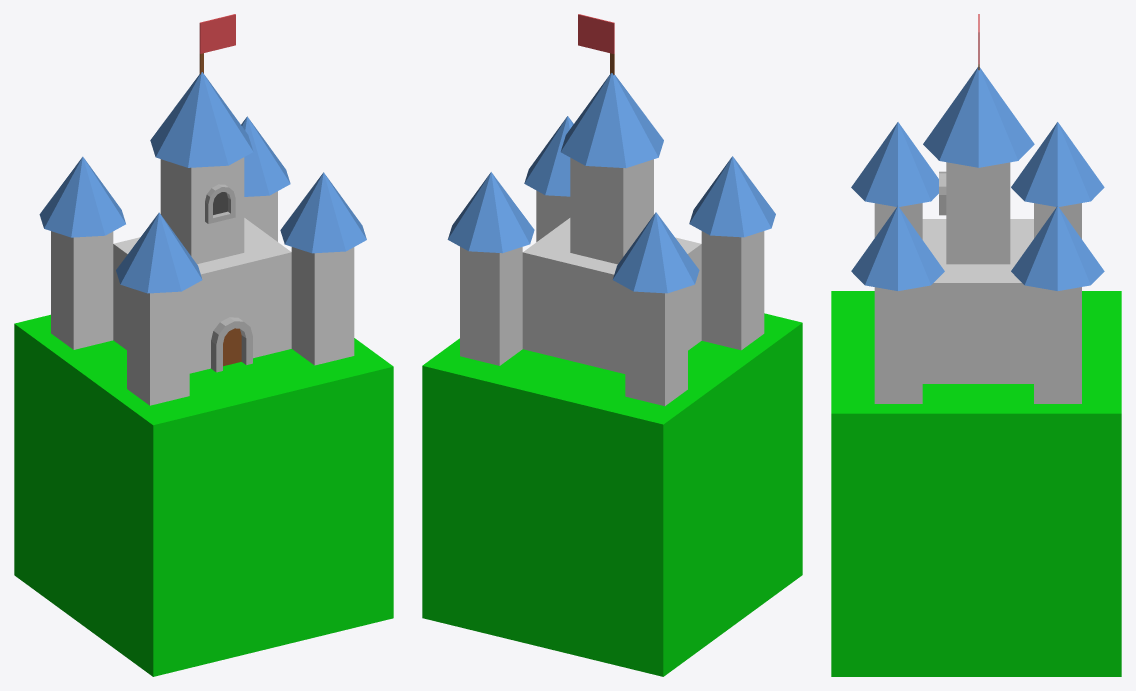
The model's file is castle.gltf.
The picture shows the model from 3 angles, left to right: view 1: azimuth 30°, elevation 25°; view 2: azimuth 150°, elevation 25°; view 3: azimuth 270°, elevation 25°; orthographic projection. The views are drawn at different scales.
Parts seen in each view (by area): view 1: Land.001, Cube, Cube.001, Cube.004, Cube.005, Cone.007, Cone.004, Cone.003, Cone.006, Cone.005, Plane.002, Plane.001 (+2 smaller); view 2: Land.001, Cube, Cube.005, Cube.004, Cube.002, Cone.007, Cone.006, Cone.003, Cone.005, Cone.004, Plane.001, Cube.001; view 3: Land.001, Cube, Cone.007, Cube.001, Cube.002, Cone.005, Cone.006, Cone.004, Cone.003, Cube.005, Cube.004.
Boxes of the visible parts, x1,y1,x2,y2 form: Land.001: (14,314,393,676); Cube: (113,157,291,373); Cube.001: (291,247,354,365); Cube.004: (51,231,113,349); Cube.005: (127,287,189,405); Cone.007: (150,72,253,167); Cone.004: (280,172,366,253); Cone.003: (116,212,202,293); Cone.006: (39,156,125,237); Cone.005: (241,116,290,196); Plane.002: (211,317,252,372); Plane.001: (199,14,235,74); Land.001: (422,313,802,676); Cube: (522,158,701,373); Cube.005: (701,231,764,350); Cube.004: (625,287,687,406); Cube.002: (460,246,522,365); Cone.007: (560,73,663,168); Cone.006: (612,212,699,293); Cone.003: (689,156,775,237); Cone.005: (447,172,534,253); Cone.004: (524,116,573,196); Plane.001: (578,14,614,75); Cube.001: (536,190,570,241); Land.001: (831,291,1121,676); Cube: (922,162,1033,383); Cone.007: (923,67,1034,167); Cube.001: (874,287,922,403); Cube.002: (1034,287,1081,403); Cone.005: (1011,206,1104,291); Cone.006: (1011,122,1104,206); Cone.004: (851,206,944,290); Cone.003: (851,122,938,206); Cube.005: (874,203,922,239); Cube.004: (1034,203,1081,238).
Bounding box in the file's own units: 2.01 × 4.56 × 2.
